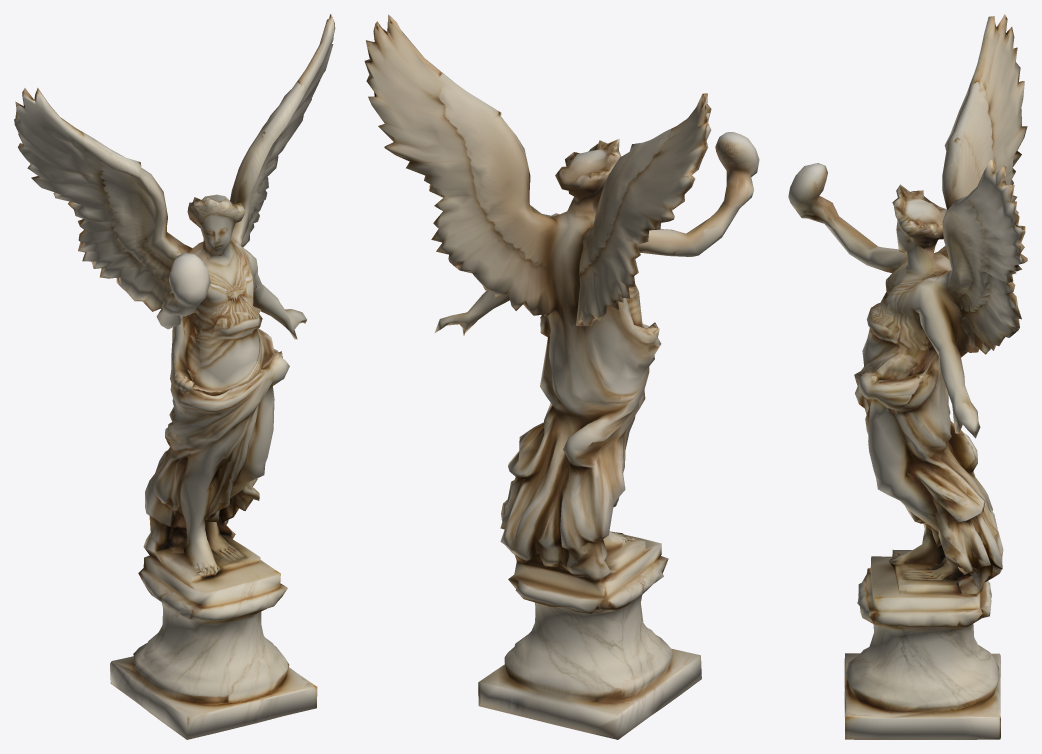
File: Winged Victory.fbx
3 renders of one model, left to right at view 1: azimuth 30°, elevation 25°; view 2: azimuth 150°, elevation 25°; view 3: azimuth 270°, elevation 25°, orthographic. The views are drawn at different scales.
Parts seen in each view (by area): view 1: input; view 2: input; view 3: input.
Boxes of the visible parts, x1,y1,x2,y2 form: input: (14,14,335,739); input: (364,14,759,739); input: (788,14,1027,739).
Bounding box in the file's own units: 104 × 191 × 66.53.
1 material, 1 textured.
